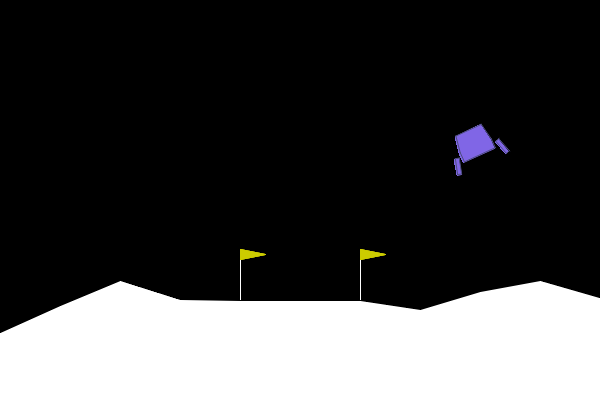lander: (440, 116, 511, 178)
